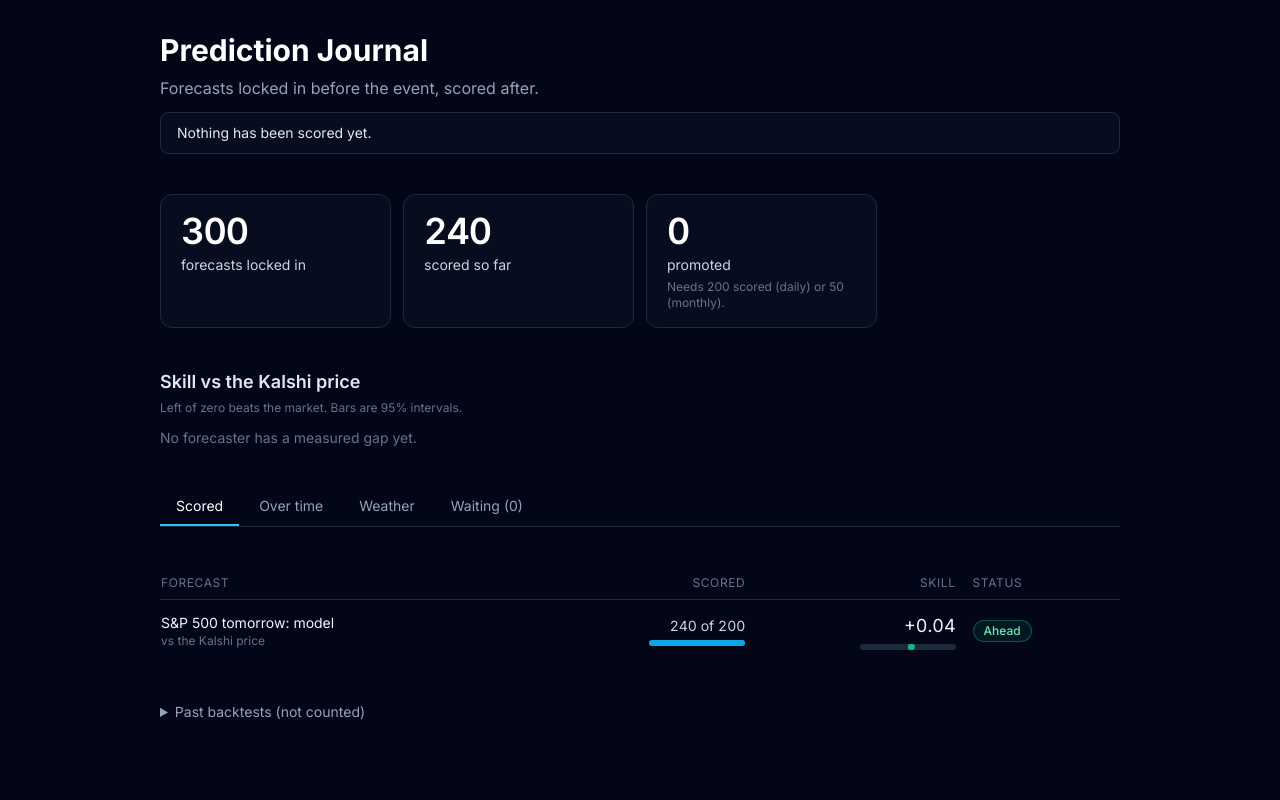
it: calibration shows its reference points › marks 50% in the table too, so the reference survives without the chart
Click the button "S&P 500 tomorrow: model": (248, 623) [161,613,334,633]
(page scrolled)
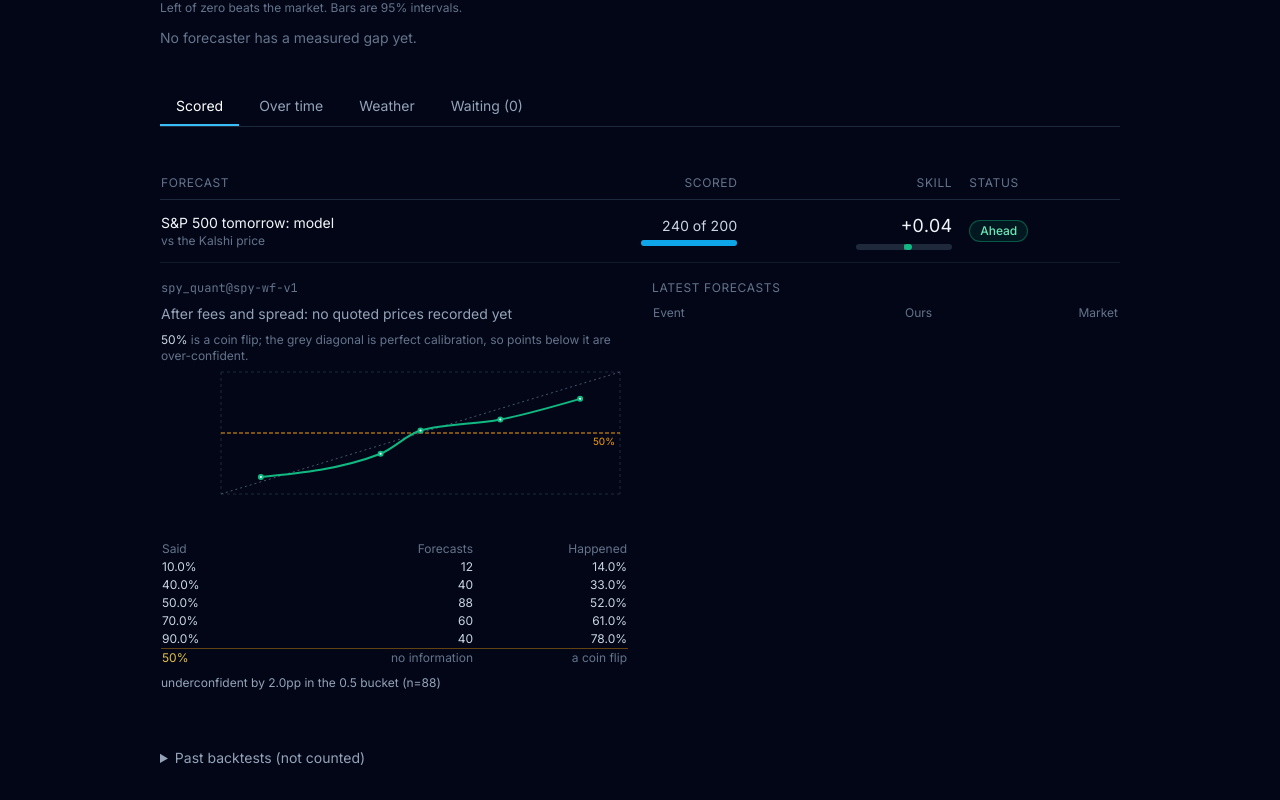
Result: the element named "Calibration curve " is shown at [161,332,628,528]
Result: the text "50%" is shown at [161,648,261,667]
